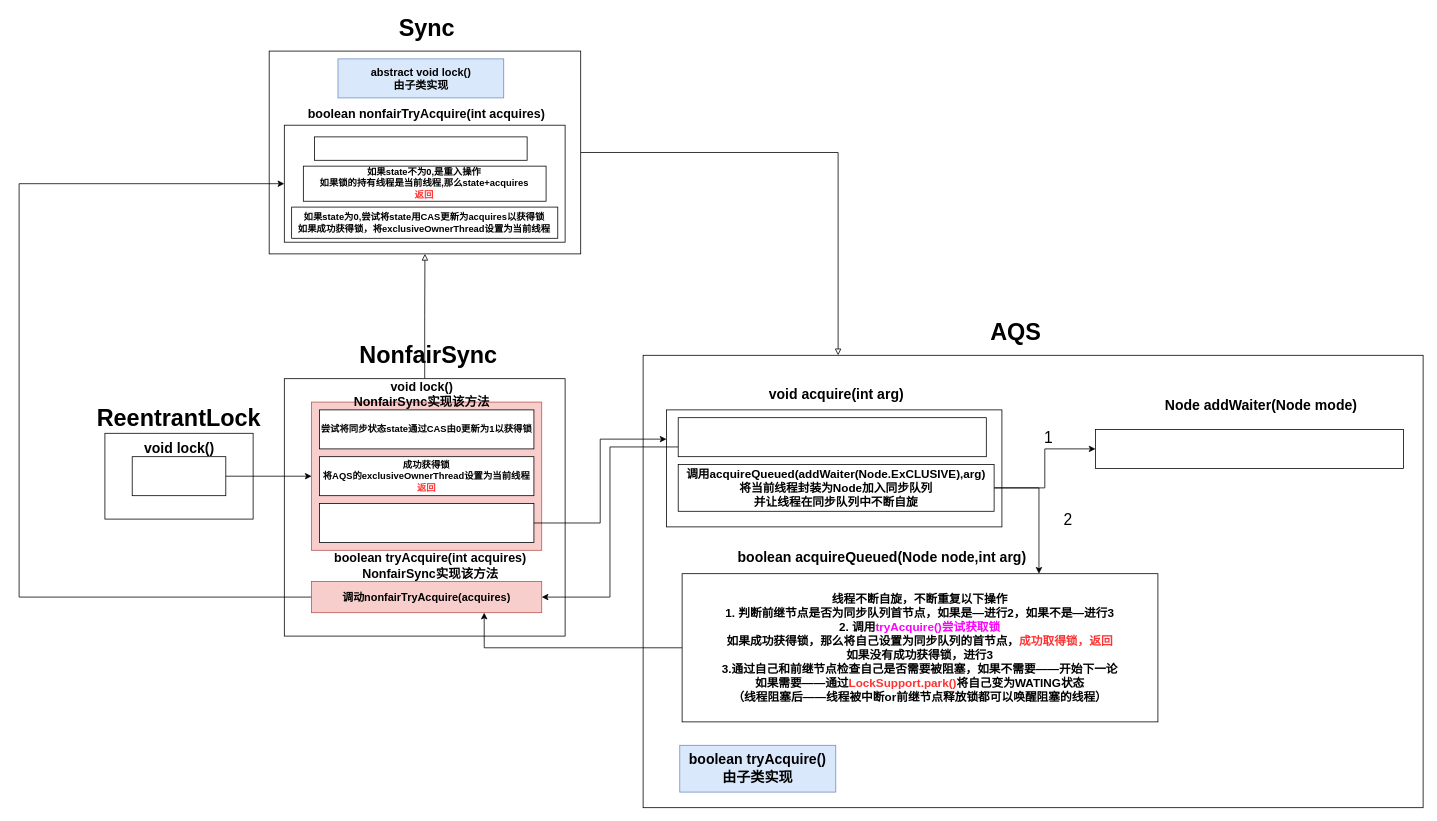
Image size: 1437x821. Some labels were removed from this diagram. The centre of each missing label's shape, as x and y in pixels:
sync.lock(): [178,476]
失败 调用 acquire(1)(继承自AQS): [426,522]
将当前线程封装为Node，并插入同步队列末尾: [1249,448]
获取同步状态state，判断是否为重入操作: [420,148]
调用 tryAcquire(arg)(子类实现) 尝试获得锁 如果获得成功， 则返回: [831,437]
